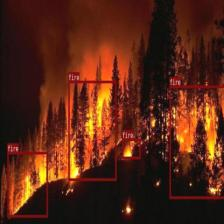fire: (169, 86, 224, 198), (68, 80, 116, 180), (7, 152, 48, 217), (122, 138, 140, 159)
